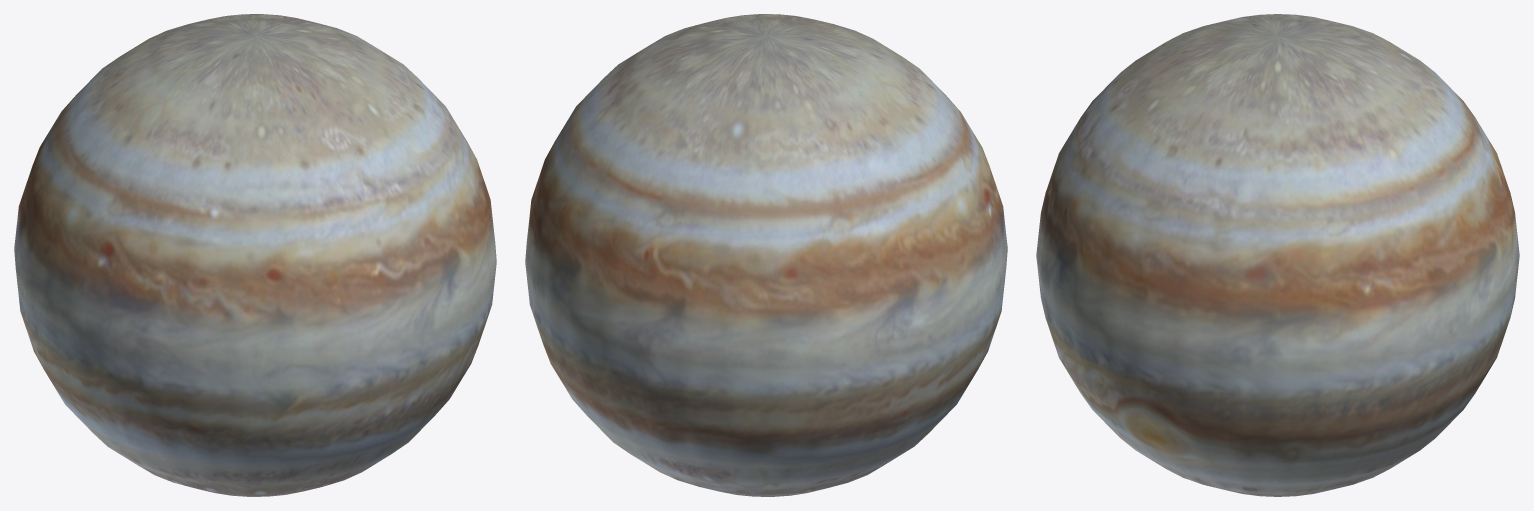
File: jupiter.glb
3 renders of one model, left to right at view 1: azimuth 30°, elevation 25°; view 2: azimuth 150°, elevation 25°; view 3: azimuth 270°, elevation 25°, orthographic.
Visible parts, largest first — view 1: Material_001-material; view 2: Material_001-material; view 3: Material_001-material.
Part boxes in pixels (left/top/right/bottom): Material_001-material: left=14, top=14, right=496, bottom=496; Material_001-material: left=525, top=14, right=1007, bottom=496; Material_001-material: left=1036, top=14, right=1519, bottom=496.
Bounding box in the file's own units: 22.11 × 22.11 × 22.11.
Materials: 1 (1 with a texture image).
